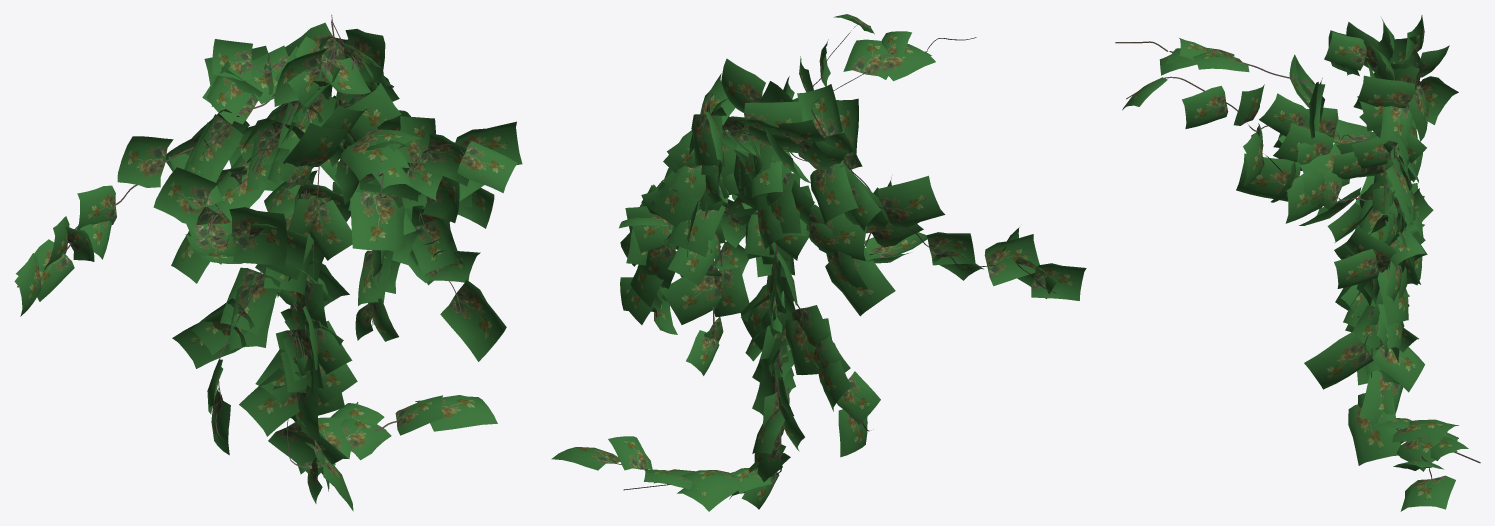
The model's file is SM_Climber_10a.fbx.
3 views of the same model, side by side, from view 1: azimuth 30°, elevation 25°; view 2: azimuth 150°, elevation 25°; view 3: azimuth 270°, elevation 25° (orthographic). The views are drawn at different scales.
Visible parts, largest first — view 1: SM_Climber_10a_LOD0; view 2: SM_Climber_10a_LOD0; view 3: SM_Climber_10a_LOD0.
Part boxes in pixels (x1=…): SM_Climber_10a_LOD0: x1=14, y1=14, x2=522, y2=511; SM_Climber_10a_LOD0: x1=551, y1=14, x2=1086, y2=511; SM_Climber_10a_LOD0: x1=1115, y1=15, x2=1480, y2=511.
Bounding box in the file's own units: 1442 × 992 × 1224.
